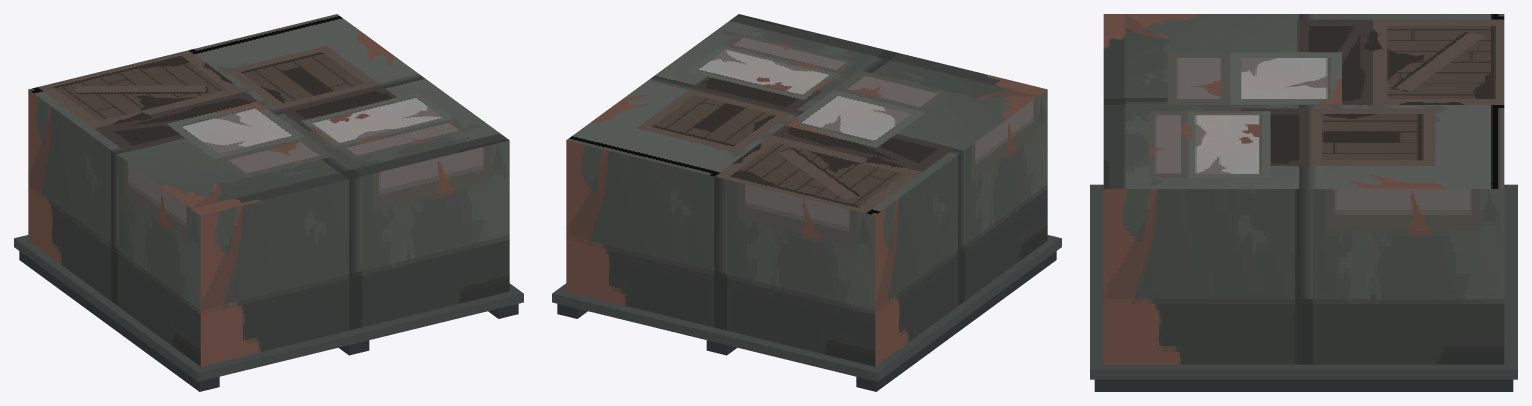
The model's file is Building_AncientCratePallet.glb.
3 views of the same model, side by side, from view 1: azimuth 30°, elevation 25°; view 2: azimuth 150°, elevation 25°; view 3: azimuth 270°, elevation 25° (orthographic). The views are drawn at different scales.
Parts seen in each view (by area): view 1: AncientCratePallet; view 2: AncientCratePallet; view 3: AncientCratePallet.
Part boxes in pixels (x1,y1,x2,y2): AncientCratePallet: [14, 14, 523, 391]; AncientCratePallet: [552, 14, 1061, 391]; AncientCratePallet: [1090, 14, 1517, 391].
Bounding box in the file's own units: 1.94 × 0.98 × 1.9.
Materials: 1 (1 with a texture image).
